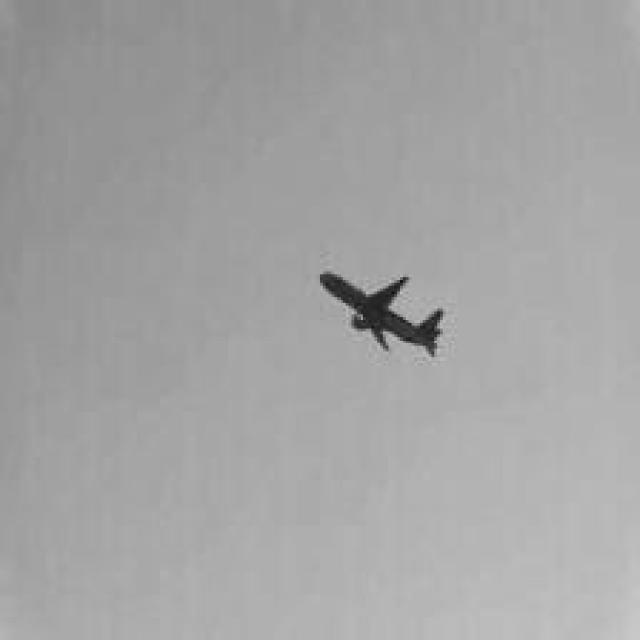aeroplane: (314, 260, 452, 363)
